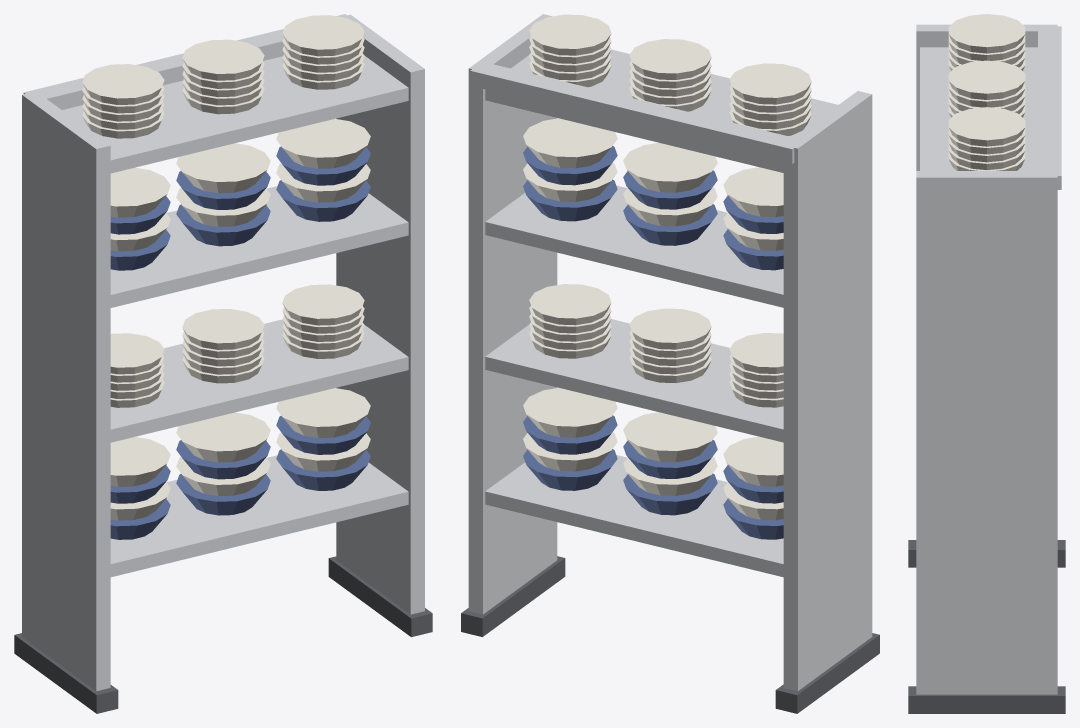
File: bowl_and_crockery_rack.glb
3 renders of one model, left to right at view 1: azimuth 30°, elevation 25°; view 2: azimuth 150°, elevation 25°; view 3: azimuth 270°, elevation 25°, orthographic. The views are drawn at different scales.
Parts seen in each view (by area): view 1: crockery-rack-steel, crockery-rack-cream, crockery-rack-indigo, crockery-rack-charcoal; view 2: crockery-rack-steel, crockery-rack-cream, crockery-rack-indigo, crockery-rack-charcoal; view 3: crockery-rack-steel, crockery-rack-cream, crockery-rack-charcoal.
Part boxes in pixels (x1,y1,x2,y2): crockery-rack-steel: [22, 14, 424, 691]; crockery-rack-cream: [82, 15, 370, 520]; crockery-rack-indigo: [110, 146, 370, 539]; crockery-rack-charcoal: [14, 556, 432, 713]; crockery-rack-steel: [468, 14, 872, 691]; crockery-rack-cream: [523, 14, 811, 520]; crockery-rack-indigo: [523, 146, 783, 539]; crockery-rack-charcoal: [461, 556, 879, 713]; crockery-rack-steel: [916, 24, 1061, 694]; crockery-rack-cream: [948, 14, 1025, 170]; crockery-rack-charcoal: [908, 540, 1065, 713].
Bounding box in the file's own units: 0.94 × 1.57 × 0.4.
